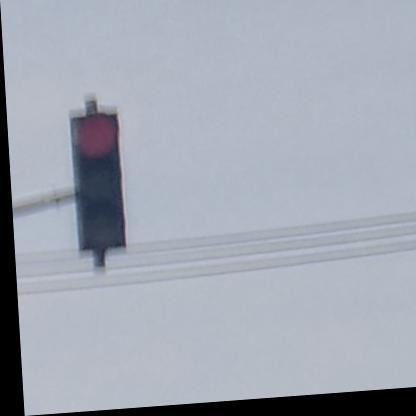red: (66, 114, 124, 255)
